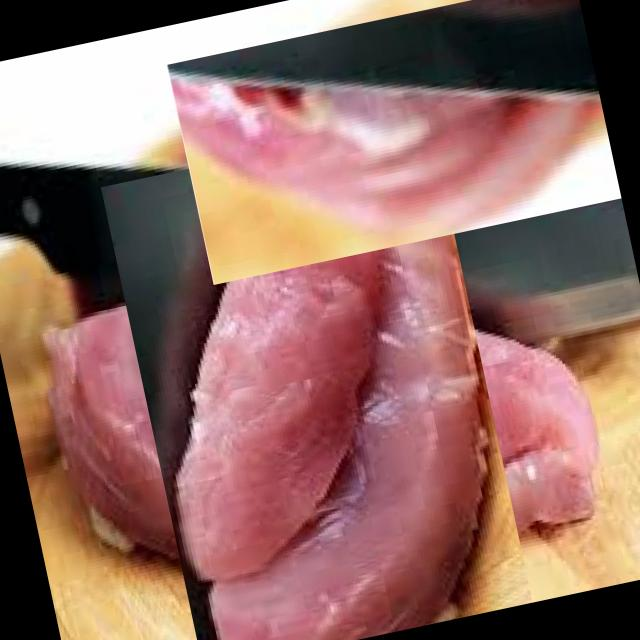chicken: (61, 155, 580, 640), (166, 0, 621, 284)
